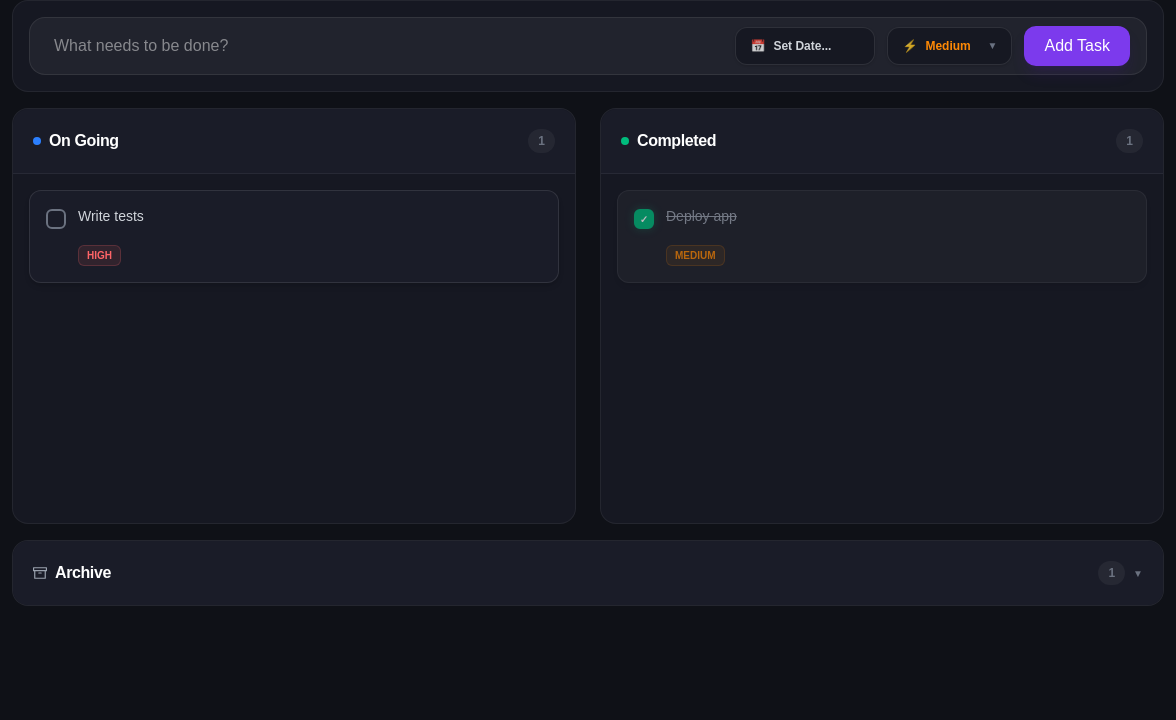
TaskBoard › shows error toast on duplicate task name
This screenshot has width=1176, height=720.
In the field with placeholder "What needs to be done?": x=377, y=46 [38, 26, 716, 66], type "Write tests"
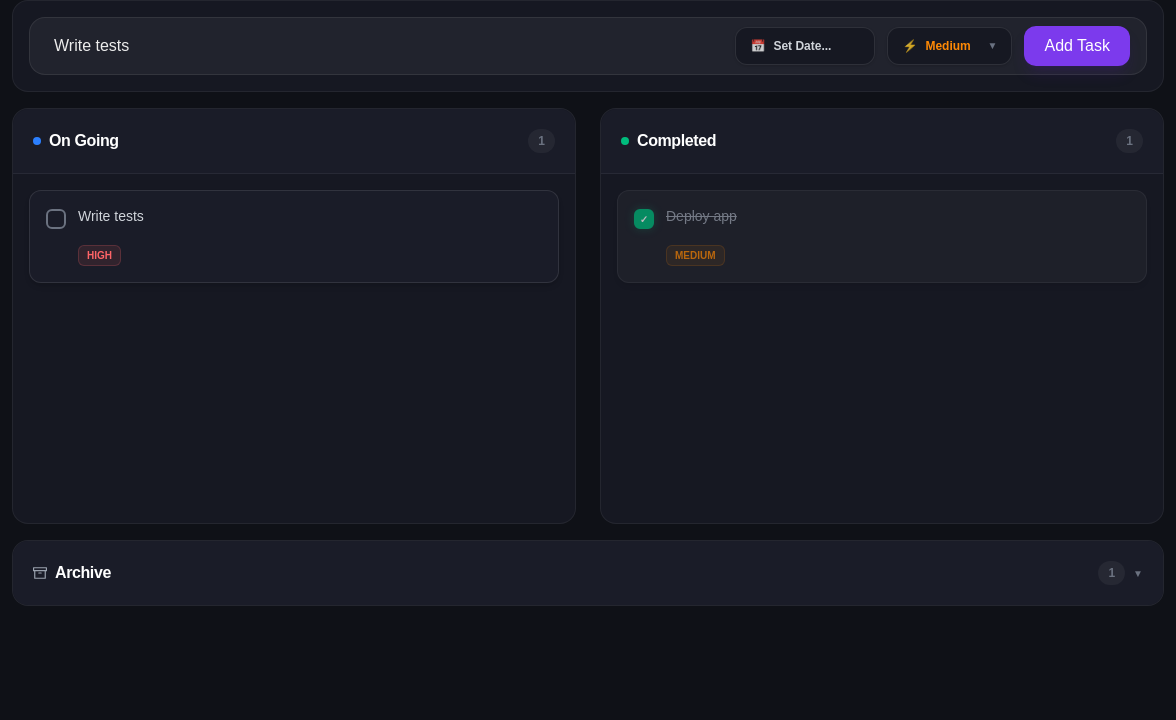
Click the button "Add Task": x=1077, y=46 [1024, 26, 1130, 66]
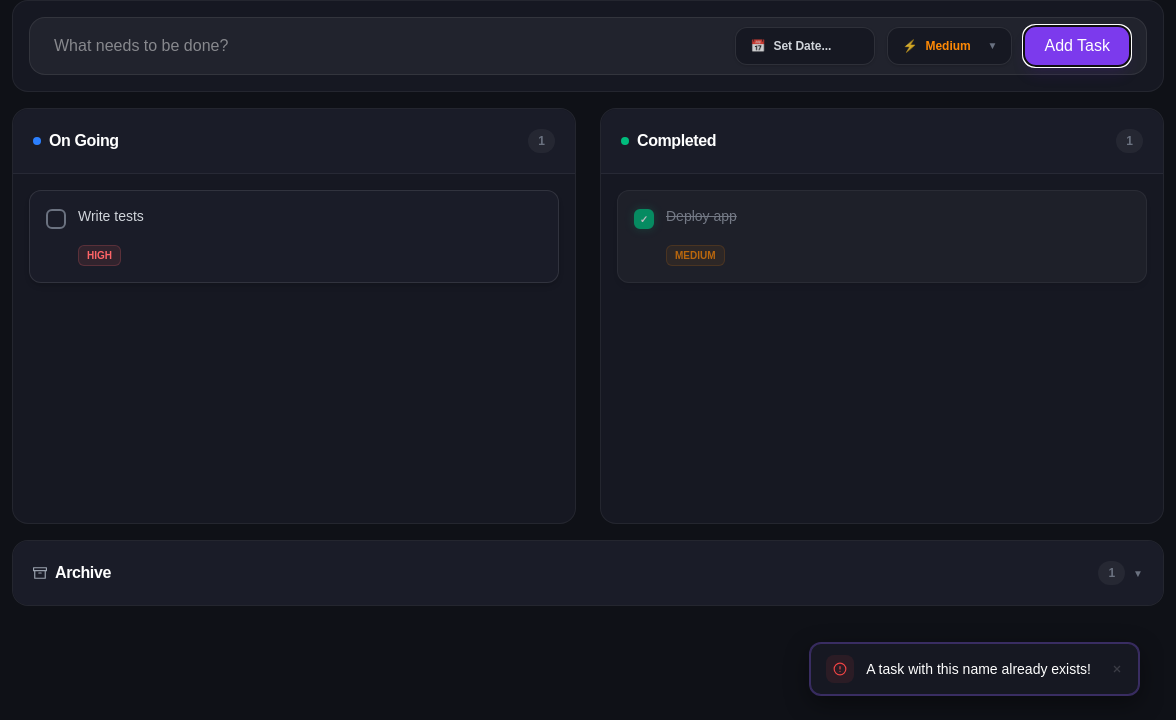
Now the text "A task with this name already exists!" is shown, box [866, 659, 1091, 679]
